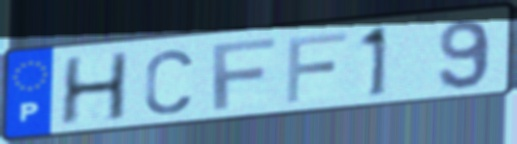1: (356, 24, 390, 99)
9: (435, 16, 493, 91)
C: (142, 47, 196, 118)
F: (209, 36, 279, 112), (282, 29, 350, 105)
H: (57, 49, 131, 128)
